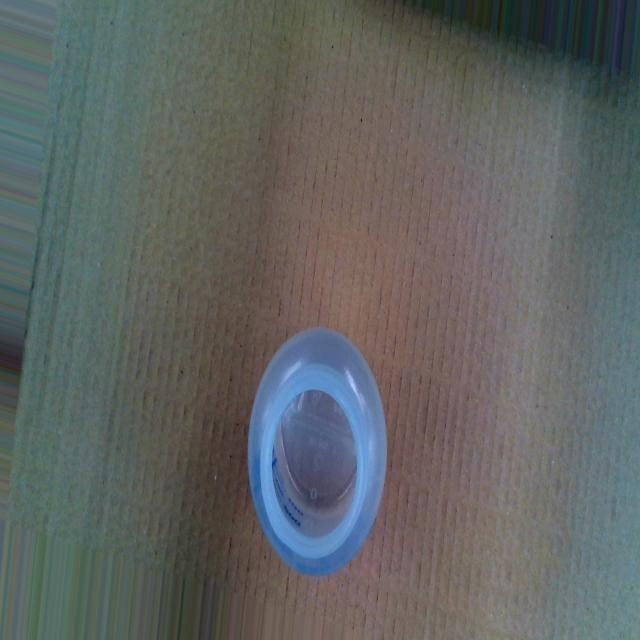bottle: (245, 320, 390, 591)
